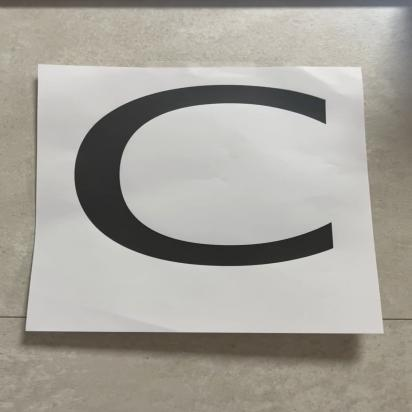seat: (47, 74, 388, 333)
